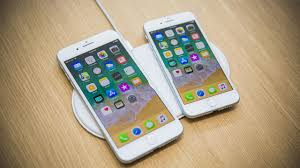iphone: (49, 29, 186, 165)
iphone10: (49, 29, 186, 165)
